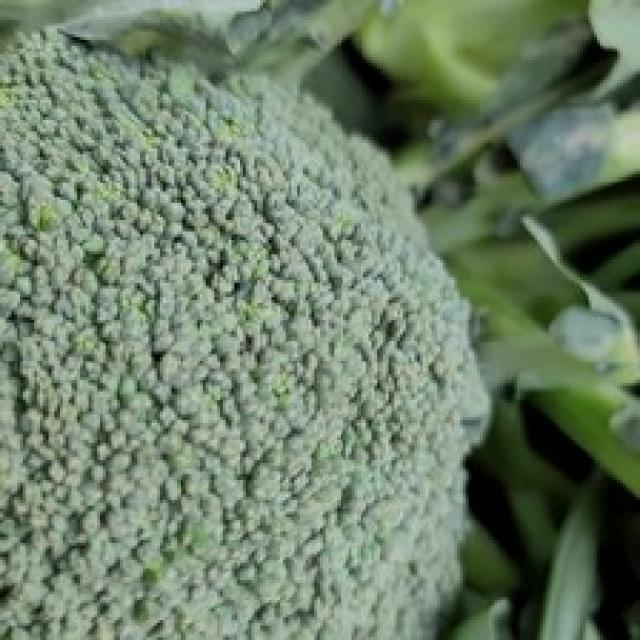Broccoli: (0, 29, 488, 639), (0, 30, 486, 639)
